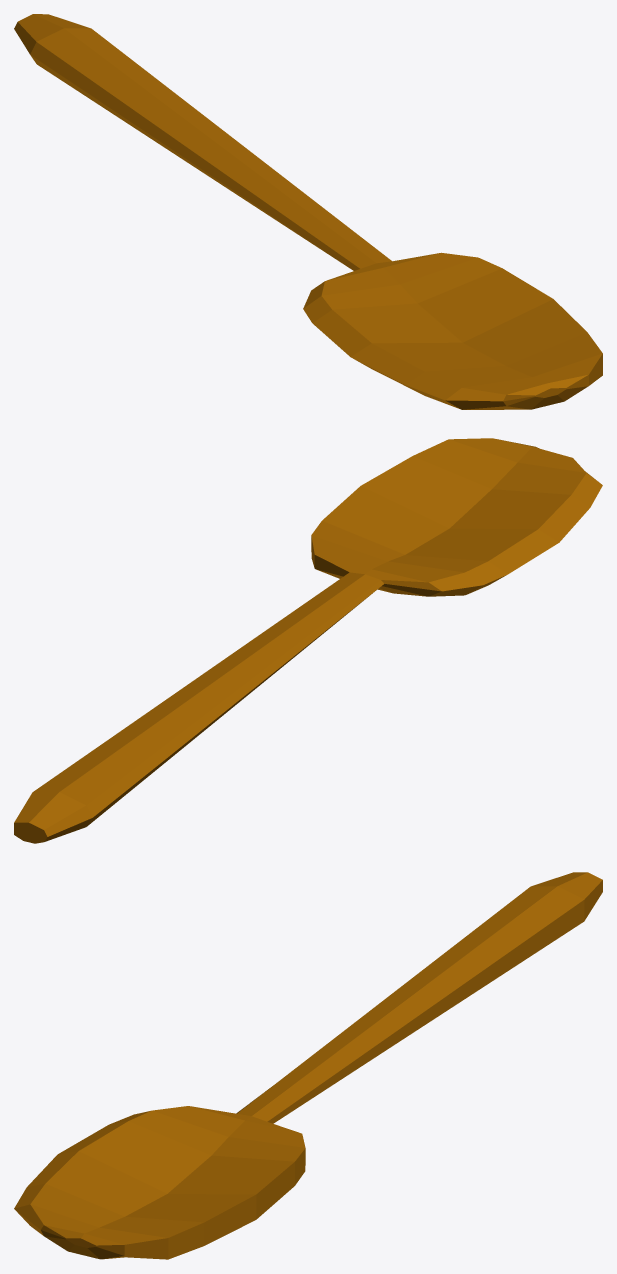
Rendered from Spoon_01.fbx.
3 views of the same model, one above another, from view 1: azimuth 30°, elevation 25°; view 2: azimuth 150°, elevation 25°; view 3: azimuth 330°, elevation 25° (orthographic). The views are drawn at different scales.
Visible parts, largest first — view 1: Spoon_01; view 2: Spoon_01; view 3: Spoon_01.
Boxes of the visible parts, x1,y1,x2,y2 form: Spoon_01: (14,14,602,409); Spoon_01: (14,438,602,843); Spoon_01: (14,872,602,1259).
Size of the model in its own units: 4.18 by 0.7501 by 18.46.
